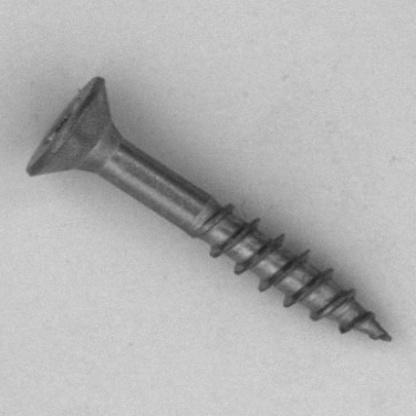metal: (25, 75, 392, 342)
